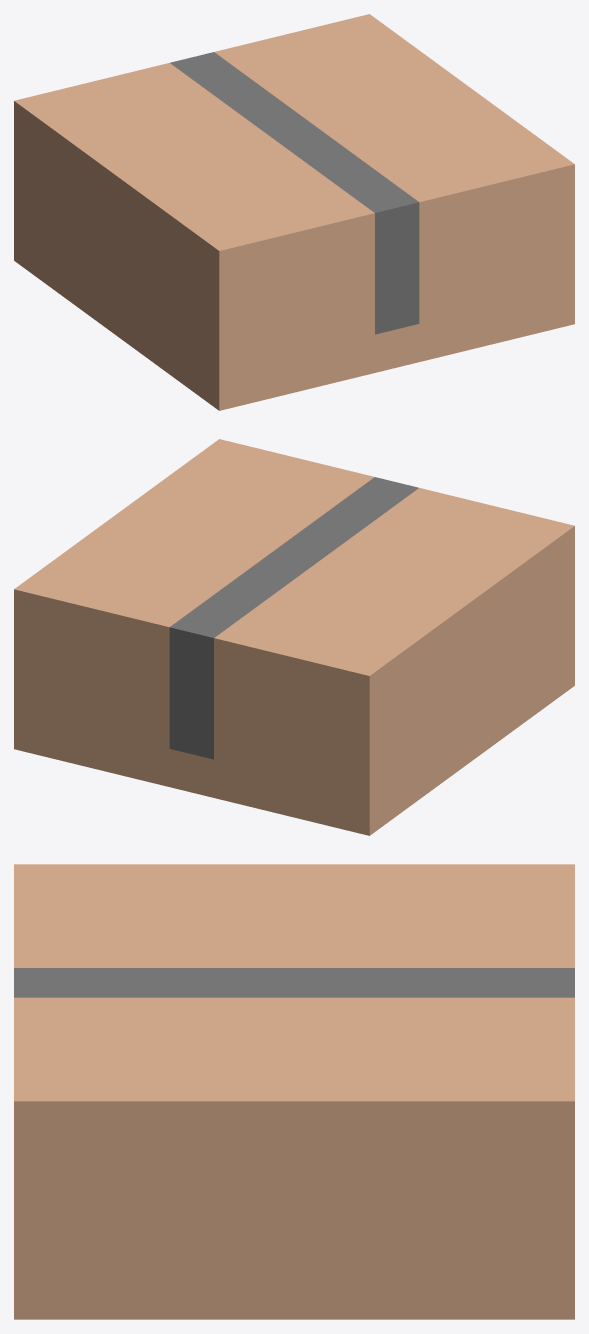
3 renders of one model, top to bottom at view 1: azimuth 30°, elevation 25°; view 2: azimuth 150°, elevation 25°; view 3: azimuth 270°, elevation 25°, orthographic. The views are drawn at different scales.
Visible parts, largest first — view 1: Box2; view 2: Box2; view 3: Box2.
Part boxes in pixels (bbox=[...]): Box2: bbox=[14, 14, 574, 410]; Box2: bbox=[14, 439, 574, 835]; Box2: bbox=[14, 864, 574, 1319].
Bounding box in the file's own units: 100 × 42.96 × 100.
